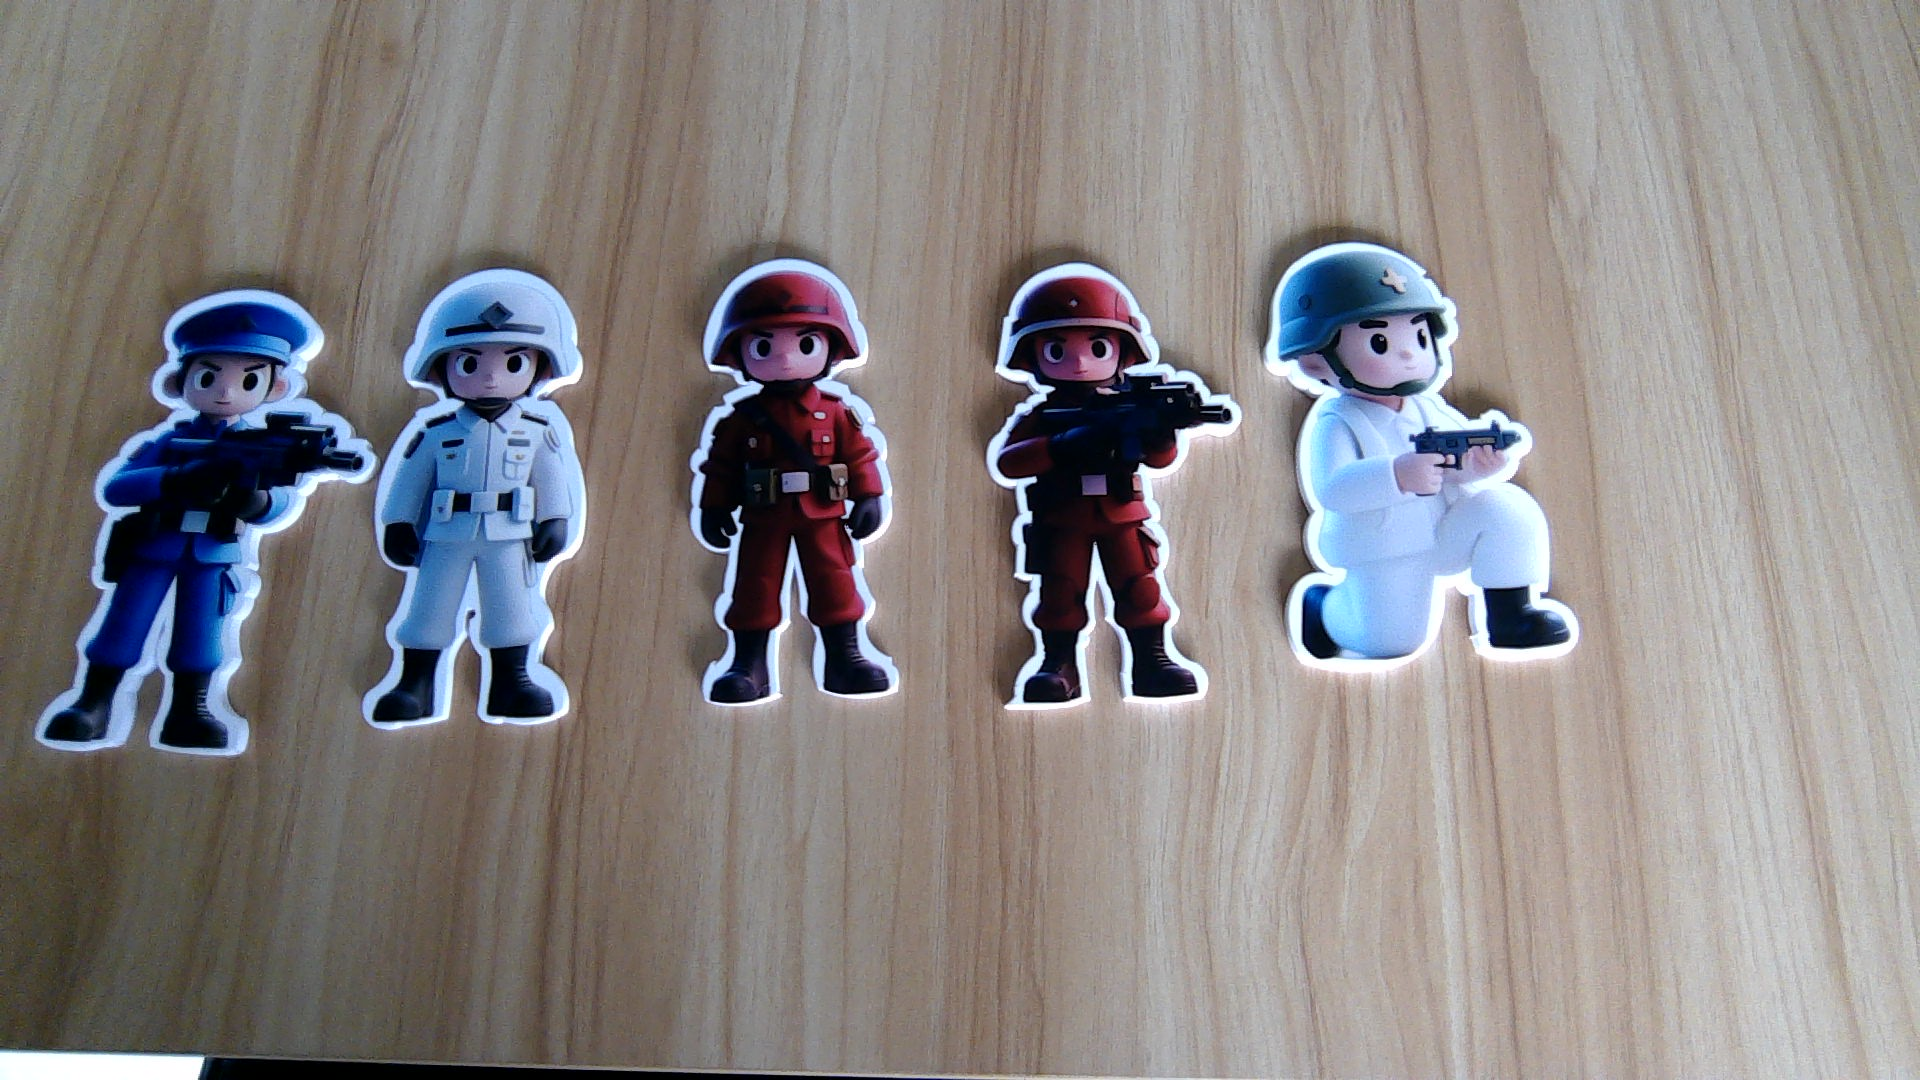人质: (1280, 388, 1581, 667), (377, 405, 596, 732)
敌人1: (977, 384, 1241, 713), (686, 381, 914, 705)
敌人2: (26, 405, 368, 756)
